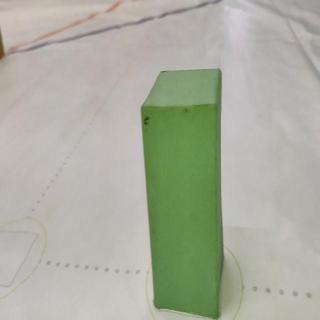greenbox: (141, 67, 222, 319)
